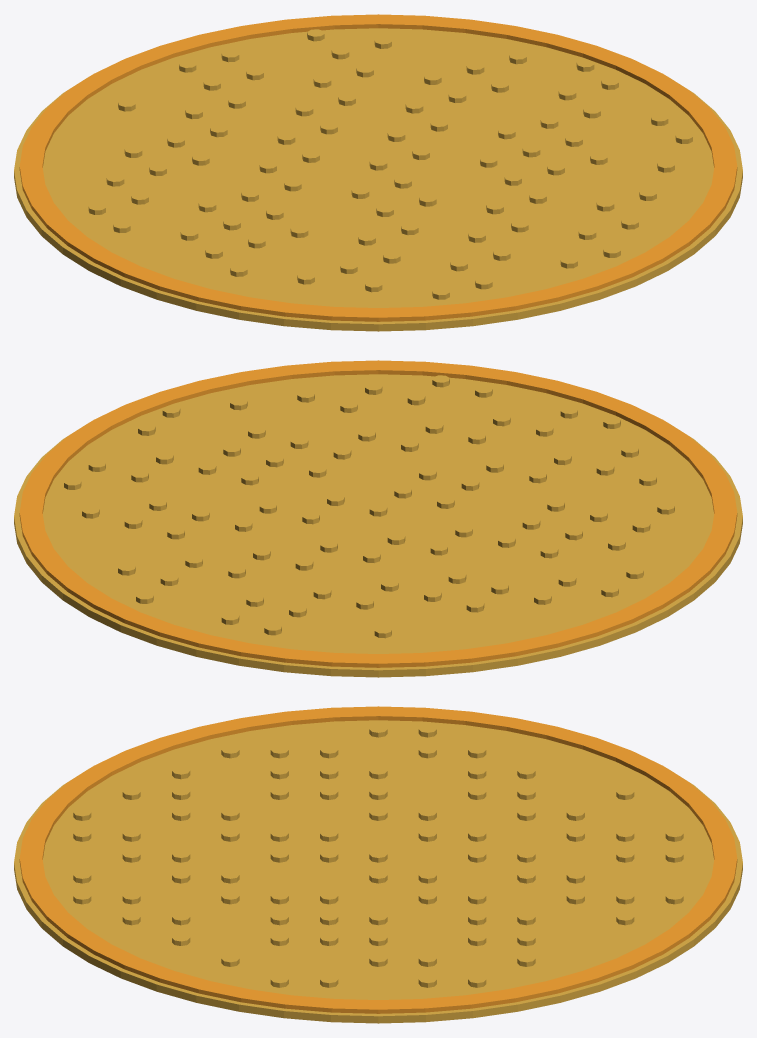
File: 06_L72_AtomicThinFilmVisualization.fbx
3 views of the same model, one above another, from view 1: azimuth 30°, elevation 25°; view 2: azimuth 150°, elevation 25°; view 3: azimuth 270°, elevation 25° (orthographic).
Parts seen in each view (by area): view 1: AtomicThinFilmVisualization; view 2: AtomicThinFilmVisualization; view 3: AtomicThinFilmVisualization.
Part boxes in pixels (<box>): AtomicThinFilmVisualization: <box>14,14,742,331</box>; AtomicThinFilmVisualization: <box>14,360,742,677</box>; AtomicThinFilmVisualization: <box>14,706,742,1023</box>.
Size of the model in its own units: 128 by 2.95 by 128.
